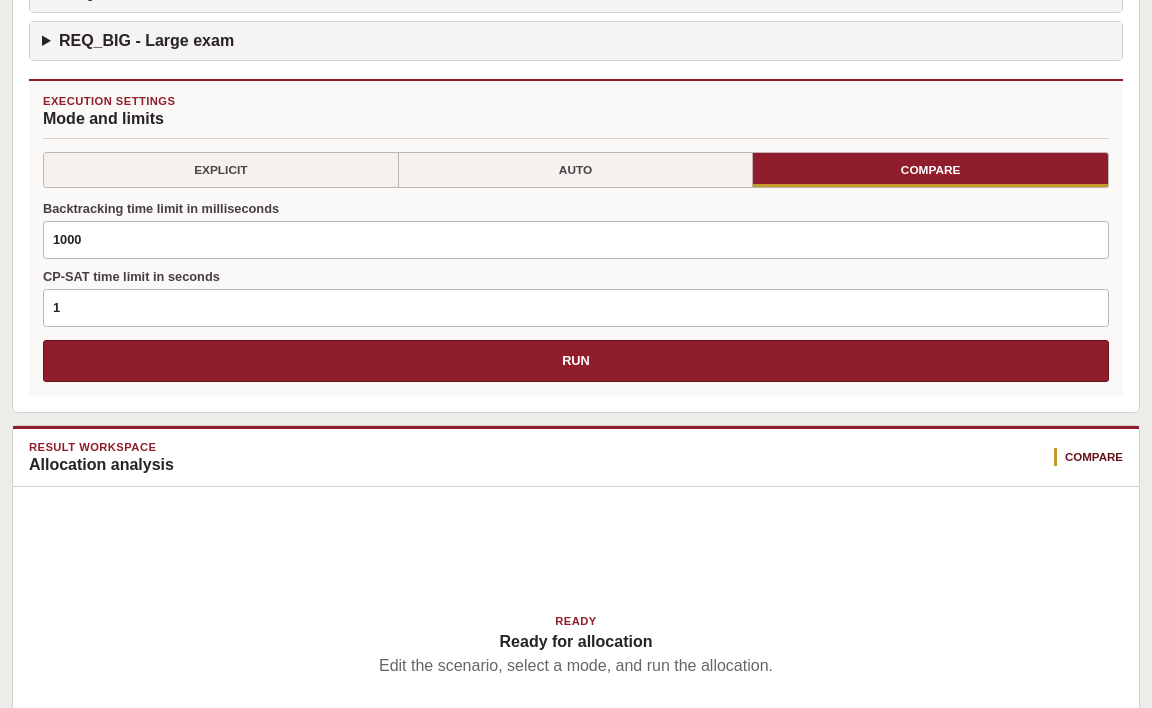
it: AllocationPageComponent › should display all algorithms after a successful comparison response
The width and height of the screenshot is (1152, 708).
(page scrolled)
Click the button "RUN" at (576, 361), box [43, 340, 1109, 382]
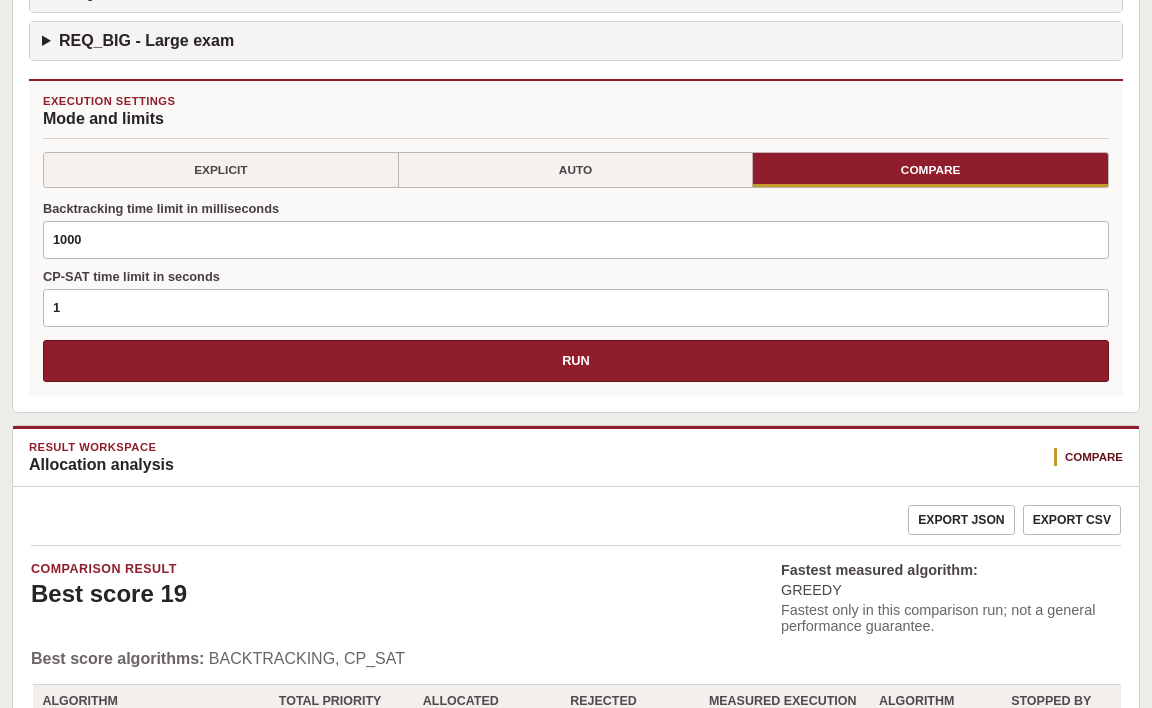
Expected: the text "Backtracking" is shown, [43, 201, 279, 216]
Expected: the text "GREEDY" is shown, [781, 582, 842, 598]
Expected: the text "CP_SAT" is shown, [204, 650, 405, 667]
